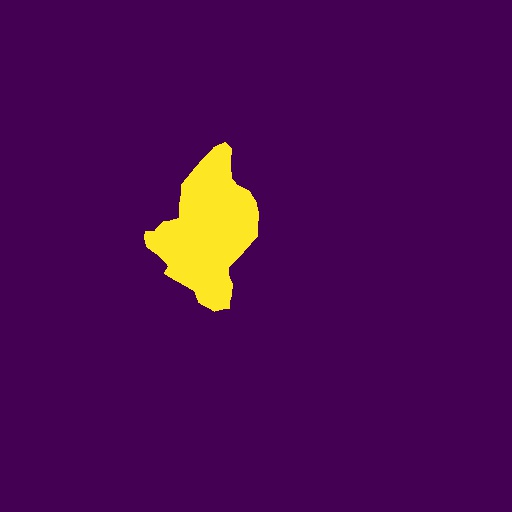Menigiomia_tumour: (144, 142, 259, 312)
